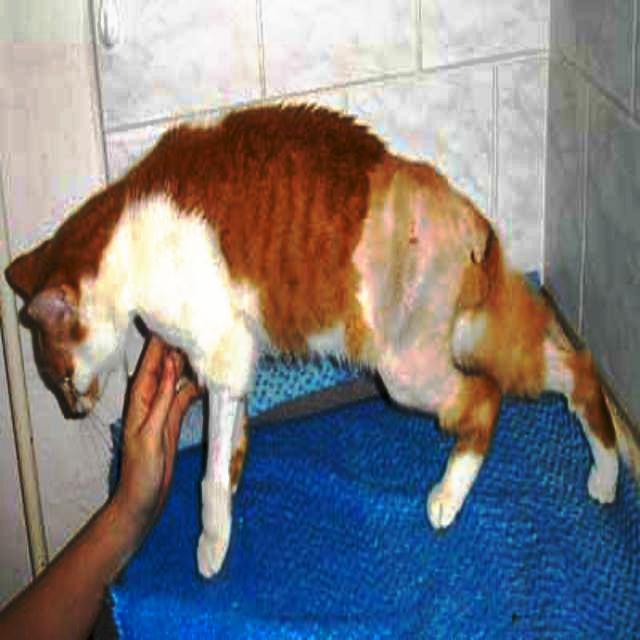hairloss: (93, 230, 245, 427), (363, 169, 461, 405)
